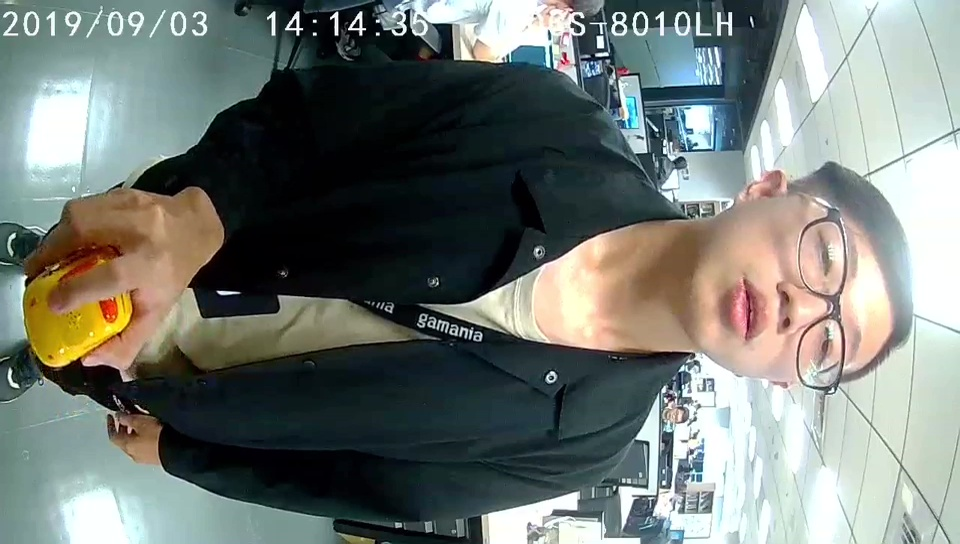car: (21, 257, 127, 367)
